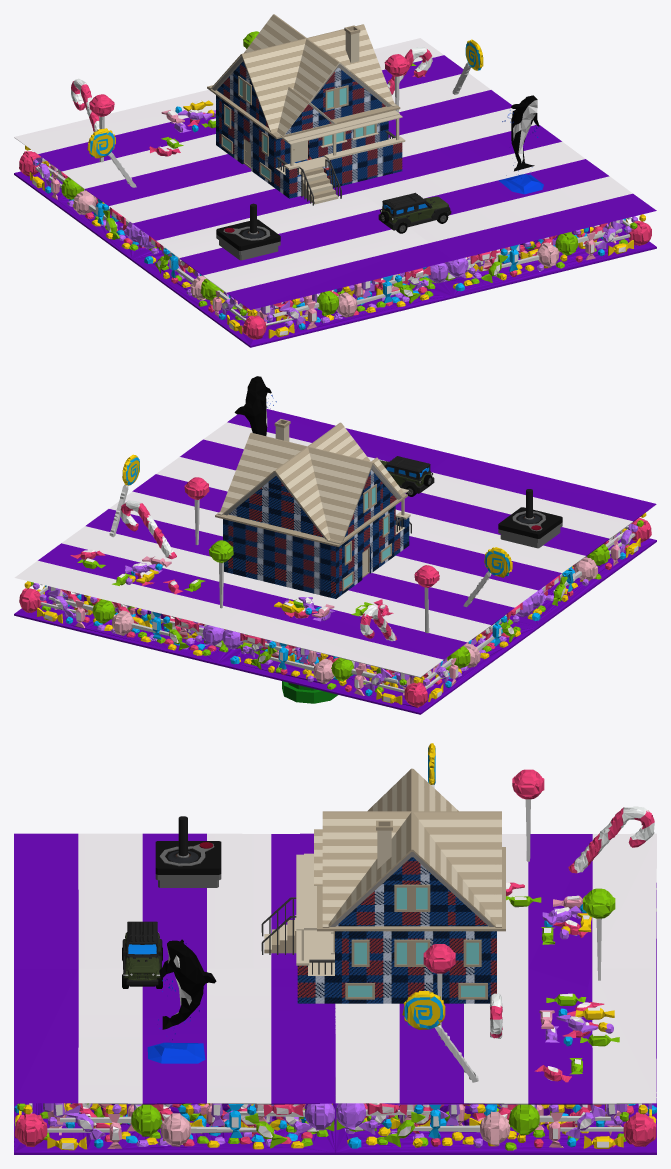
The picture shows the model from 3 angles, top to bottom: view 1: azimuth 30°, elevation 25°; view 2: azimuth 150°, elevation 25°; view 3: azimuth 270°, elevation 25°; orthographic projection. The views are drawn at different scales.
Visible parts, largest first — view 1: TERRAIN_CANDY, Cube.171, OBJRANDOM_JOYSTICK, VEHICLES_JEEP, ANIMAL_ORCA; view 2: TERRAIN_CANDY, Cube.171, OBJRANDOM_JOYSTICK, VEHICLES_JEEP, ANIMAL_ORCA, UNDERGROUND_PIPES; view 3: TERRAIN_CANDY, Cube.171, ANIMAL_ORCA, OBJRANDOM_JOYSTICK, VEHICLES_JEEP.
Boxes of the visible parts, x1=… form: TERRAIN_CANDY: x1=14, y1=31, x2=656, y2=347; Cube.171: x1=207, y1=14, x2=405, y2=205; OBJRANDOM_JOYSTICK: x1=216, y1=203, x2=280, y2=260; VEHICLES_JEEP: x1=378, y1=192, x2=451, y2=233; ANIMAL_ORCA: x1=498, y1=95, x2=543, y2=194; TERRAIN_CANDY: x1=14, y1=409, x2=656, y2=714; Cube.171: x1=215, y1=419, x2=411, y2=598; OBJRANDOM_JOYSTICK: x1=498, y1=489, x2=562, y2=548; VEHICLES_JEEP: x1=379, y1=456, x2=434, y2=496; ANIMAL_ORCA: x1=234, y1=376, x2=276, y2=435; UNDERGROUND_PIPES: x1=282, y1=681, x2=337, y2=703; TERRAIN_CANDY: x1=14, y1=743, x2=656, y2=1154; Cube.171: x1=261, y1=768, x2=505, y2=1003; ANIMAL_ORCA: x1=147, y1=939, x2=216, y2=1063; OBJRANDOM_JOYSTICK: x1=155, y1=816, x2=221, y2=887; VEHICLES_JEEP: x1=122, y1=921, x2=162, y2=988.
Bounding box in the file's own units: 4059 × 2168 × 4000.
27 materials, 3 textured.
